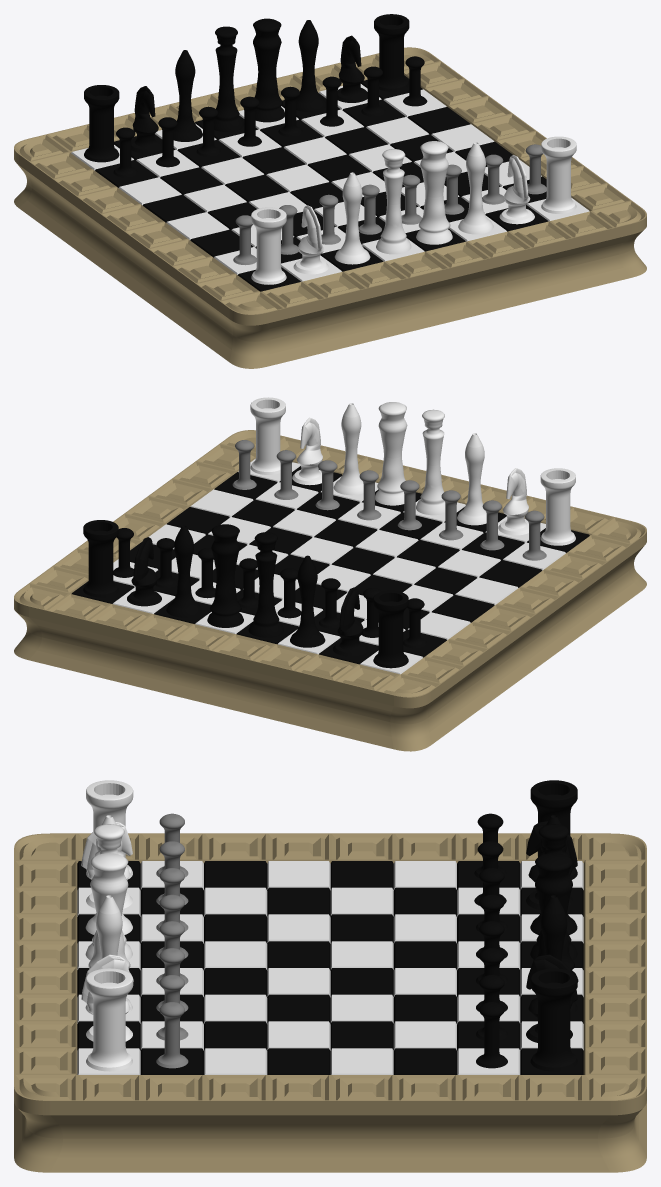
File: ChessSet_FBX_AG.FBX
3 renders of one model, top to bottom at view 1: azimuth 30°, elevation 25°; view 2: azimuth 150°, elevation 25°; view 3: azimuth 270°, elevation 25°, orthographic. The views are drawn at different scales.
Parts seen in each view (by area): view 1: Chess_Board, White_King001, Black_King001, White_Rook002, White_Rook001, Black_Rook001, White_Queen001, Black_Rook002, Black_Queen001, White_Bishop001, White_Bishop002, Black_Bishop001 (+21 smaller); view 2: Chess_Board, Black_King001, White_King001, Black_Rook002, Black_Rook001, White_Rook001, Black_Queen001, White_Rook002, White_Queen001, Black_Bishop002, Black_Bishop001, White_Bishop002 (+21 smaller); view 3: Chess_Board, Black_Rook002, White_Rook002, White_King001, Black_King001, Black_Rook001, White_Rook001, Black_Bishop001, White_Bishop002, Black_Pawn001, White_Pawn008, Black_Queen001 (+19 smaller).
Boxes of the visible parts, x1,y1,x2,y2 form: Chess_Board: (14,47,646,368); White_King001: (416,141,452,244); Black_King001: (253,18,284,122); White_Rook002: (541,136,576,213); White_Rook001: (251,207,286,284); Black_Rook001: (84,85,119,162); White_Queen001: (376,149,411,254); Black_Rook002: (374,14,409,91); Black_Queen001: (214,26,244,131); White_Bishop001: (334,172,370,264); White_Bishop002: (458,142,493,234); Black_Bishop001: (296,20,326,111); Chess_Board: (14,430,646,751); Black_King001: (207,524,243,627); White_King001: (375,402,407,505); Black_Rook002: (83,520,118,597); Black_Rook001: (373,590,408,668); White_Rook001: (540,468,575,545); Black_Queen001: (248,532,283,637); White_Rook002: (250,397,285,474); White_Queen001: (416,409,445,515); Black_Bishop002: (290,555,325,647); Black_Bishop001: (166,525,201,617); White_Bishop002: (333,403,363,495); Chess_Board: (14,833,646,1172); Black_Rook002: (530,968,577,1071); White_Rook002: (86,968,133,1071); White_King001: (88,853,133,981); Black_King001: (535,853,578,982); Black_Rook001: (530,780,577,879); White_Rook001: (86,780,133,879); Black_Bishop001: (540,895,577,1014); White_Bishop002: (85,895,132,1014); Black_Pawn001: (476,1002,507,1068); White_Pawn008: (156,1002,188,1068); Black_Queen001: (530,824,577,960).
Size of the model in its own units: 15.75 by 5.41 by 15.75.
